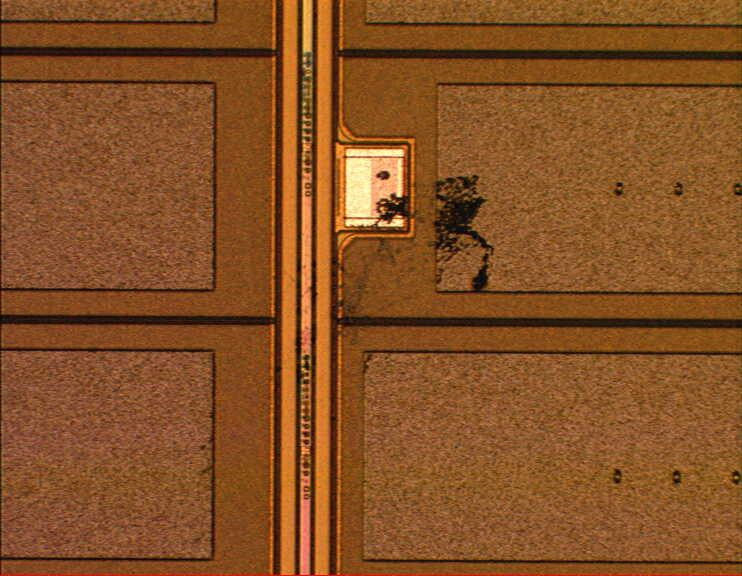PO CONTAMINATION: (327, 167, 502, 341)
